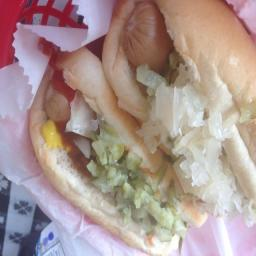hotdog: (29, 0, 256, 256)
